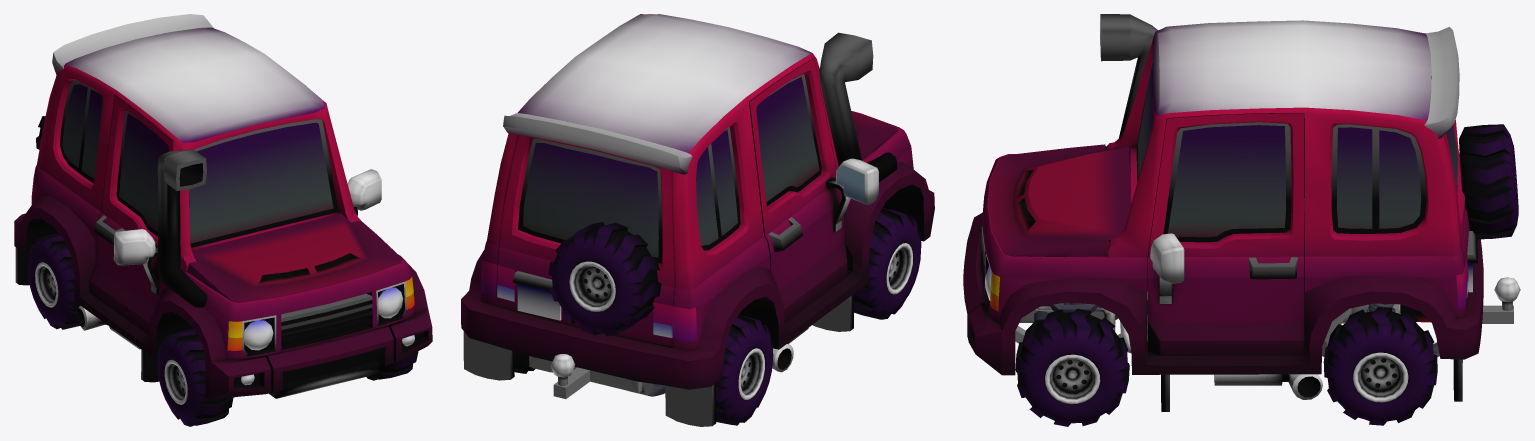
Rendered from suv.fbx.
3 views of the same model, side by side, from view 1: azimuth 30°, elevation 25°; view 2: azimuth 150°, elevation 25°; view 3: azimuth 270°, elevation 25° (orthographic). The views are drawn at different scales.
Visible parts, largest first — view 1: Mesh_BODY, Mesh_HOOD, Mesh_DOOR_R, Mesh_AIR_DUCK, Mesh_BRAKE_1_002, Mesh_BRAKE_1_003, Mesh_BODY_009, Mesh_MIRROR_R, Mesh_MIRROR_L, Mesh_BRAKE_1, Mesh_MUDFLAPS_001, Mesh_EXHAUST (+1 smaller); view 2: Mesh_BODY, Mesh_BODY_009, Mesh_DOOR_R, Mesh_BODY_001, Mesh_BRAKE_1_002, Mesh_AIR_DUCK, Mesh_BRAKE_1_003, Mesh_MUDFLAPS_001, Mesh_MIRROR_R, Mesh_SUBFRAME_006, Mesh_HOOD, Mesh_MUDFLAPS (+2 smaller); view 3: Mesh_BODY, Mesh_DOOR_L, Mesh_HOOD, Mesh_BRAKE_1, Mesh_BRAKE_1_001, Mesh_BODY_001, Mesh_BODY_009, Mesh_AIR_DUCK, Mesh_EXHAUST, Mesh_MIRROR_L, Mesh_SUBFRAME_006, Mesh_BALL.
Boxes of the visible parts, x1,y1,x2,y2 form: Mesh_BODY: [14, 28, 432, 399]; Mesh_HOOD: [187, 213, 402, 302]; Mesh_DOOR_R: [89, 95, 173, 335]; Mesh_AIR_DUCK: [157, 149, 207, 307]; Mesh_BRAKE_1_002: [157, 328, 233, 426]; Mesh_BRAKE_1_003: [28, 233, 80, 329]; Mesh_BODY_009: [52, 14, 213, 75]; Mesh_MIRROR_R: [113, 229, 155, 265]; Mesh_MIRROR_L: [347, 169, 381, 210]; Mesh_BRAKE_1: [366, 351, 418, 380]; Mesh_MUDFLAPS_001: [15, 247, 29, 285]; Mesh_EXHAUST: [77, 305, 140, 349]; Mesh_BODY: [461, 14, 934, 389]; Mesh_BODY_009: [497, 113, 692, 346]; Mesh_DOOR_R: [749, 58, 850, 322]; Mesh_BODY_001: [548, 222, 661, 336]; Mesh_BRAKE_1_002: [853, 207, 921, 319]; Mesh_AIR_DUCK: [819, 32, 897, 182]; Mesh_BRAKE_1_003: [716, 314, 773, 425]; Mesh_MUDFLAPS_001: [463, 331, 716, 426]; Mesh_MIRROR_R: [836, 158, 878, 204]; Mesh_SUBFRAME_006: [529, 356, 642, 398]; Mesh_HOOD: [851, 111, 898, 160]; Mesh_MUDFLAPS: [812, 294, 853, 331]; Mesh_BODY: [963, 20, 1483, 375]; Mesh_DOOR_L: [1147, 113, 1304, 355]; Mesh_HOOD: [988, 144, 1131, 257]; Mesh_BRAKE_1: [1015, 308, 1129, 426]; Mesh_BRAKE_1_001: [1323, 307, 1437, 425]; Mesh_BODY_001: [1459, 124, 1518, 239]; Mesh_BODY_009: [1424, 27, 1477, 306]; Mesh_AIR_DUCK: [1100, 14, 1157, 148]; Mesh_EXHAUST: [1120, 321, 1322, 399]; Mesh_MIRROR_L: [1150, 233, 1184, 283]; Mesh_SUBFRAME_006: [1015, 304, 1513, 344]; Mesh_BALL: [1494, 277, 1520, 310].
Size of the model in its own units: 464 by 435 by 711.
2 materials, 1 textured.
